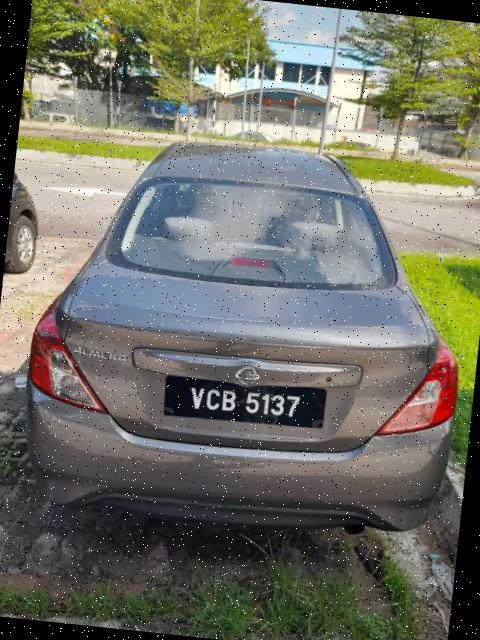License_Plate: (162, 371, 330, 433)
car: (13, 122, 480, 549)
